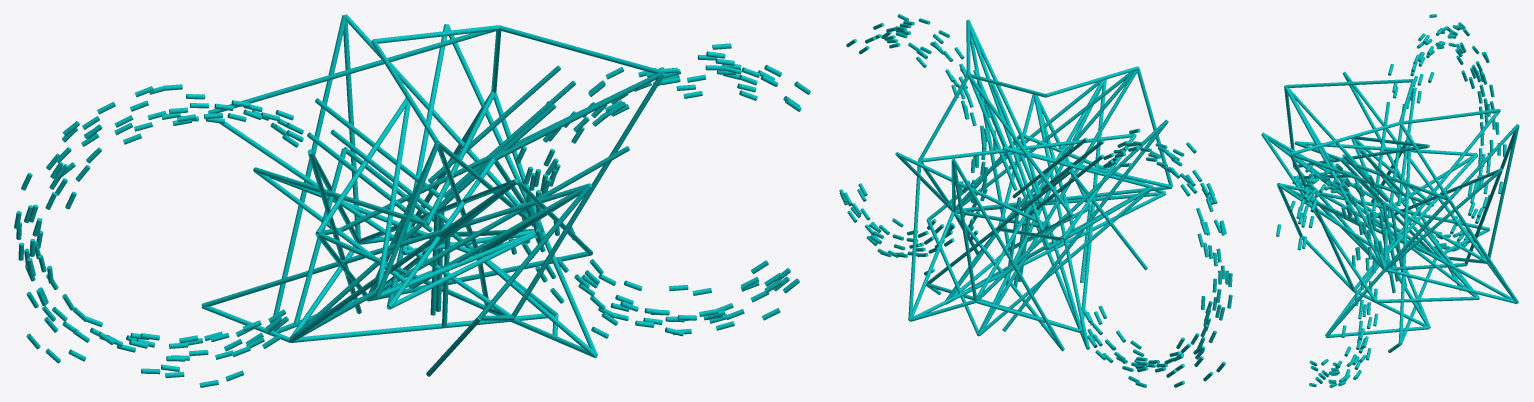
Rendered from cyc_wireframe_abstract.glb.
3 renders of one model, left to right at view 1: azimuth 30°, elevation 25°; view 2: azimuth 150°, elevation 25°; view 3: azimuth 270°, elevation 25°, orthographic. The views are drawn at different scales.
Parts seen in each view (by area): view 1: world; view 2: world; view 3: world.
Boxes of the visible parts, x1,y1,x2,y2 form: world: (14,14,810,387); world: (839,14,1232,387); world: (1261,14,1519,387).
Size of the model in its own units: 5.98 by 2.83 by 3.01.
